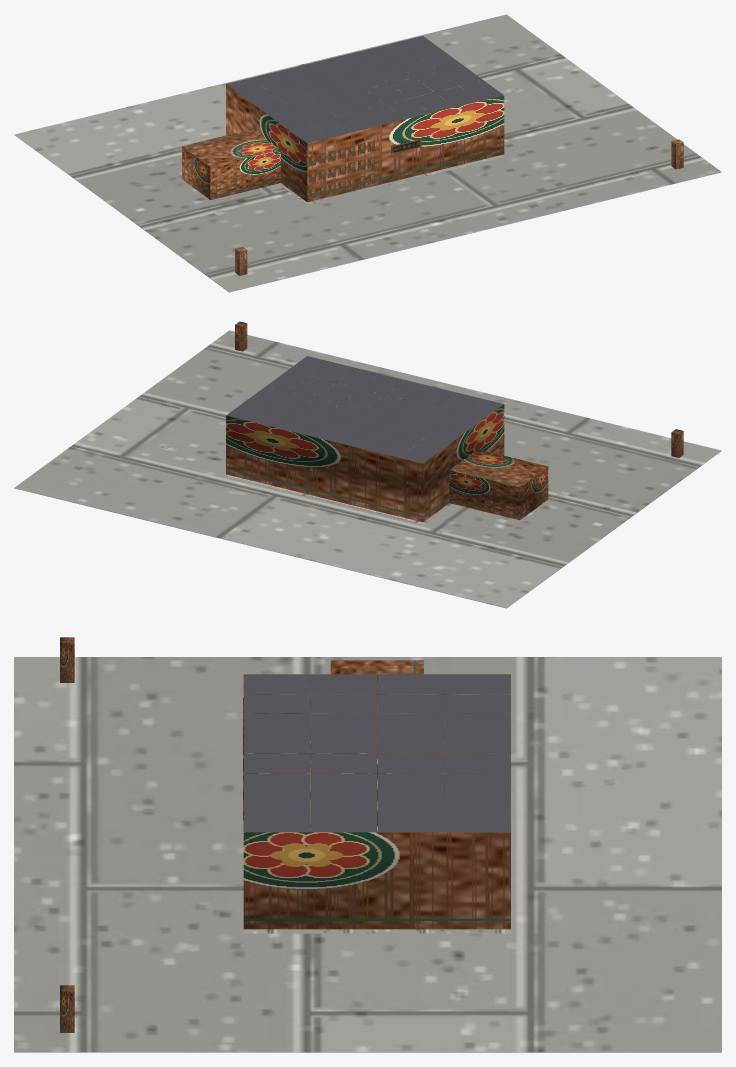
The picture shows the model from 3 angles, top to bottom: view 1: azimuth 30°, elevation 25°; view 2: azimuth 150°, elevation 25°; view 3: azimuth 270°, elevation 25°; orthographic projection. The views are drawn at different scales.
Visible parts, largest first — view 1: 11710_01_05540_014_01_L2__base, 11710_01_05540_014_02_L2__body, 11710_01_05540_014_03_L2__roof, 11710_01_05540_014_05_L2__openings, 11710_01_05540_014_06_L2__green; view 2: 11710_01_05540_014_01_L2__base, 11710_01_05540_014_02_L2__body, 11710_01_05540_014_03_L2__roof, 11710_01_05540_014_06_L2__green; view 3: 11710_01_05540_014_01_L2__base, 11710_01_05540_014_03_L2__roof, 11710_01_05540_014_02_L2__body, 11710_01_05540_014_06_L2__green.
Boxes of the visible parts, x1,y1,x2,y2 form: 11710_01_05540_014_01_L2__base: [14, 14, 721, 292]; 11710_01_05540_014_02_L2__body: [182, 42, 504, 202]; 11710_01_05540_014_03_L2__roof: [226, 36, 503, 143]; 11710_01_05540_014_05_L2__openings: [308, 140, 374, 198]; 11710_01_05540_014_06_L2__green: [235, 139, 683, 275]; 11710_01_05540_014_01_L2__base: [14, 330, 721, 608]; 11710_01_05540_014_02_L2__body: [226, 362, 548, 522]; 11710_01_05540_014_03_L2__roof: [226, 356, 503, 463]; 11710_01_05540_014_06_L2__green: [235, 321, 683, 457]; 11710_01_05540_014_01_L2__base: [14, 657, 721, 1052]; 11710_01_05540_014_03_L2__roof: [244, 674, 510, 832]; 11710_01_05540_014_02_L2__body: [243, 660, 510, 929]; 11710_01_05540_014_06_L2__green: [60, 637, 74, 1032].
Bounding box in the file's own units: 140 × 16.82 × 106.
5 materials, 5 textured.
